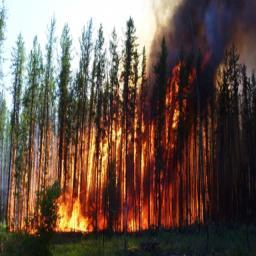Low smoke: (147, 1, 256, 90)
Medium fire: (11, 54, 218, 226)
